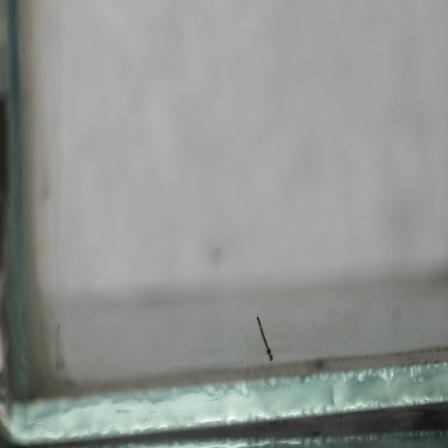Jentik-Nyamuk: (249, 313, 277, 365)
